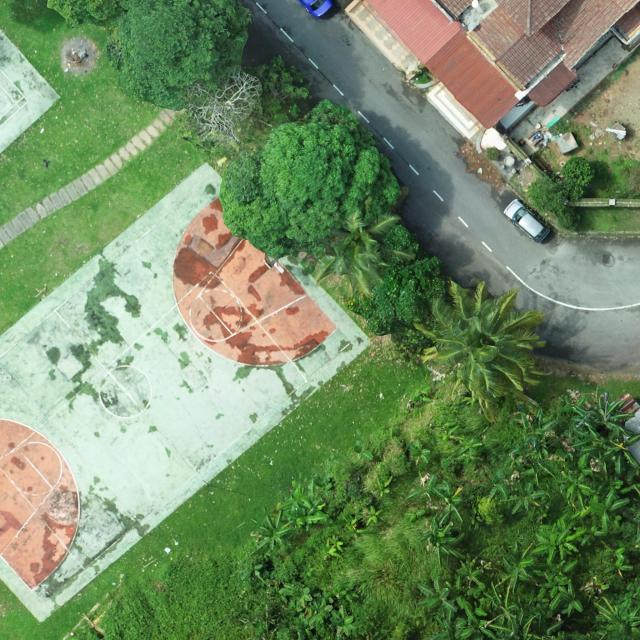Tree: (218, 99, 403, 260), (413, 278, 550, 419), (102, 0, 254, 111), (345, 225, 443, 339), (312, 210, 414, 298), (175, 65, 262, 157), (246, 56, 314, 118), (526, 178, 583, 230), (280, 479, 330, 530), (531, 517, 587, 562), (426, 506, 468, 565), (532, 559, 580, 610), (560, 453, 599, 511), (596, 425, 640, 475), (46, 0, 120, 28), (593, 596, 640, 640), (459, 603, 513, 640), (251, 506, 293, 553), (520, 411, 560, 458), (590, 397, 636, 437), (591, 492, 631, 534), (499, 481, 546, 514), (504, 542, 534, 592), (432, 484, 466, 528), (484, 581, 520, 622), (416, 579, 457, 613), (406, 470, 447, 503), (430, 609, 473, 640), (444, 575, 481, 609), (304, 590, 334, 630), (559, 157, 596, 187), (278, 580, 312, 612), (558, 396, 595, 424), (456, 553, 484, 588), (570, 426, 607, 452), (329, 604, 355, 640), (559, 580, 583, 617), (603, 556, 634, 580), (600, 539, 629, 563), (488, 470, 511, 500), (411, 440, 430, 466), (325, 536, 344, 558), (376, 474, 394, 496), (365, 506, 383, 525)
